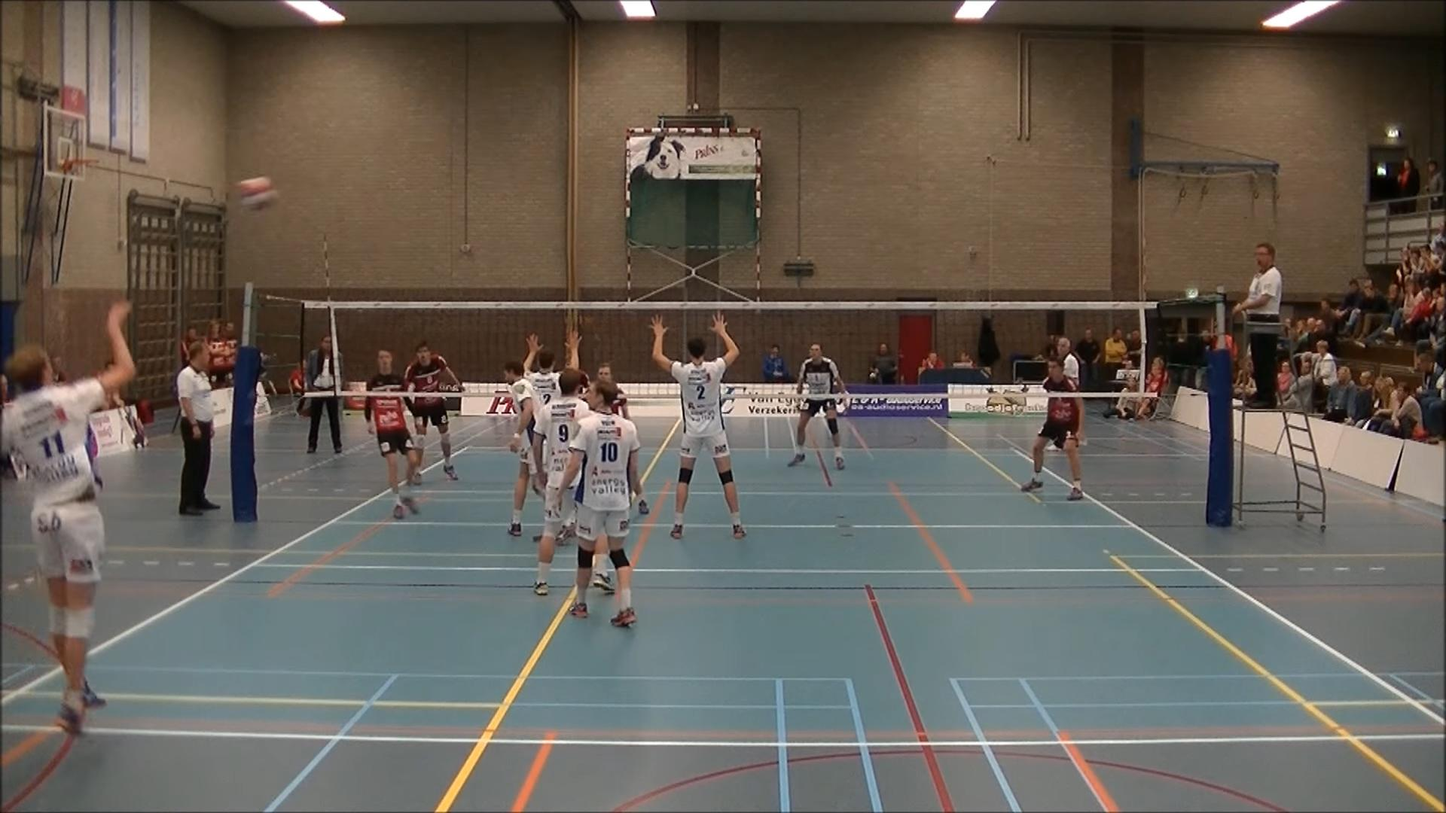Player: (651, 312, 745, 538), (562, 381, 639, 626), (533, 369, 590, 595), (364, 350, 421, 519), (1021, 358, 1083, 500), (403, 340, 459, 479), (789, 344, 847, 469), (503, 361, 538, 536), (523, 334, 560, 413), (596, 362, 630, 419), (615, 386, 630, 419)
Serve: (0, 298, 146, 749)
ball: (237, 165, 285, 217)
